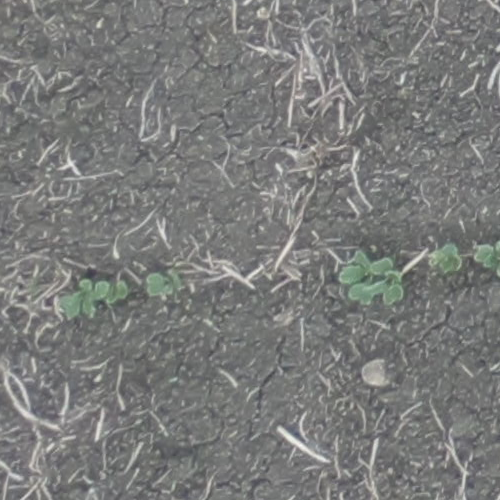clumped: (339, 250, 404, 306)
isolated: (59, 279, 128, 316), (146, 271, 181, 296), (474, 242, 499, 277), (431, 243, 461, 272)
